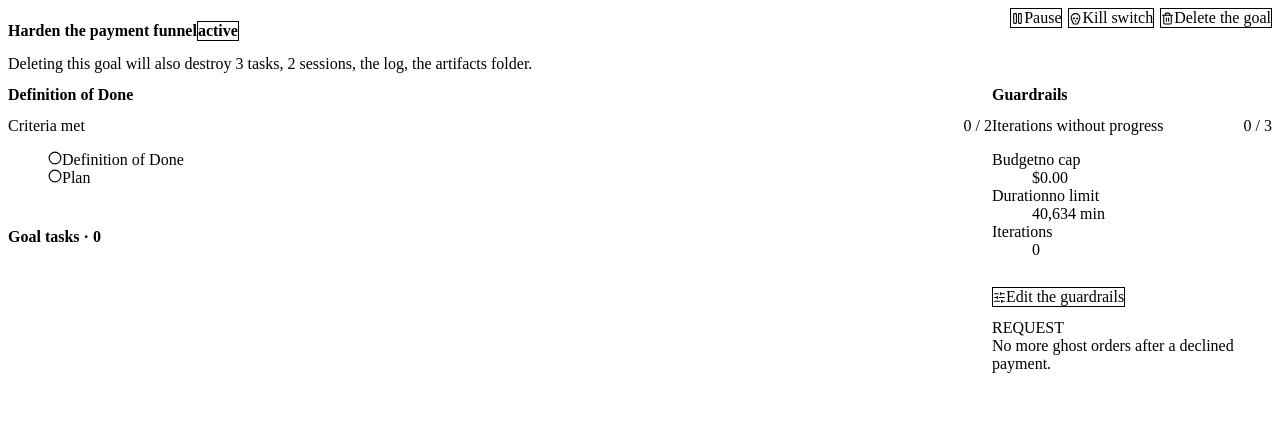
it: GoalPage: deleting a goal (D1-D12) › non-empty footprint: the sentence names tasks, sessions, log AND artifacts folder (D9)
The width and height of the screenshot is (1280, 426).
Expected: the text "Deleting this goal will also destroy 3 tasks, 2 sessions, the log, the artifacts folder." is shown, [8,54,532,72]
Click the button "Delete the goal".
click(1216, 18)  # box [1160,8,1272,28]
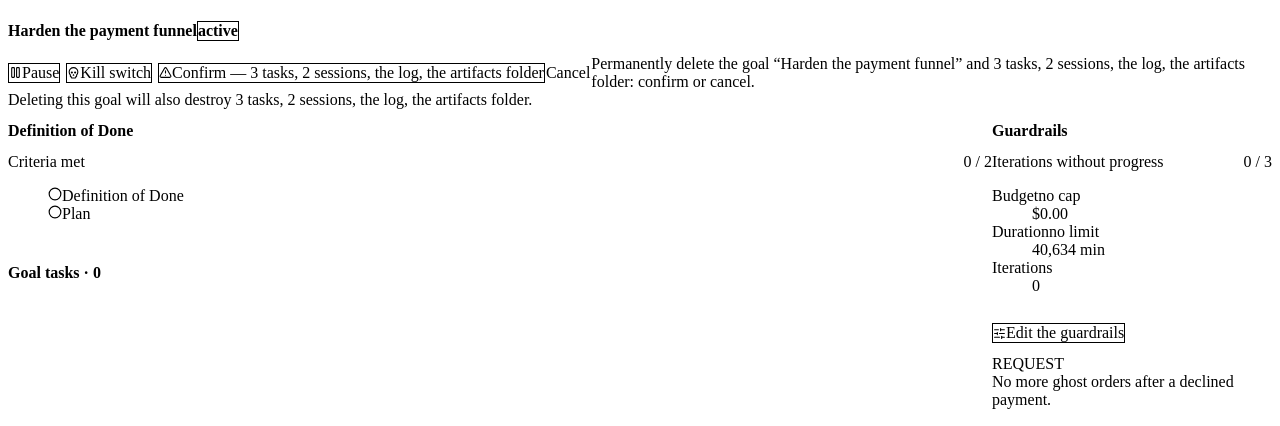
Now the button "Confirm — 3 tasks, 2 sessions, the log, the artifacts folder" is shown, box [158,62,545,82]
